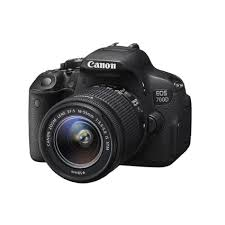camera: (29, 43, 190, 182)
